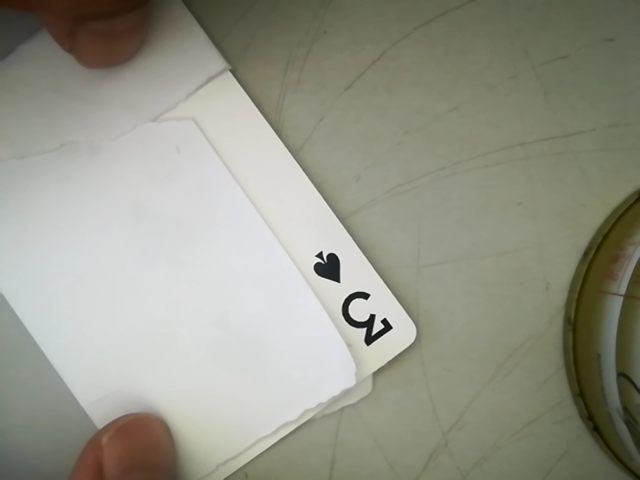ht 3: (307, 245, 401, 356)
